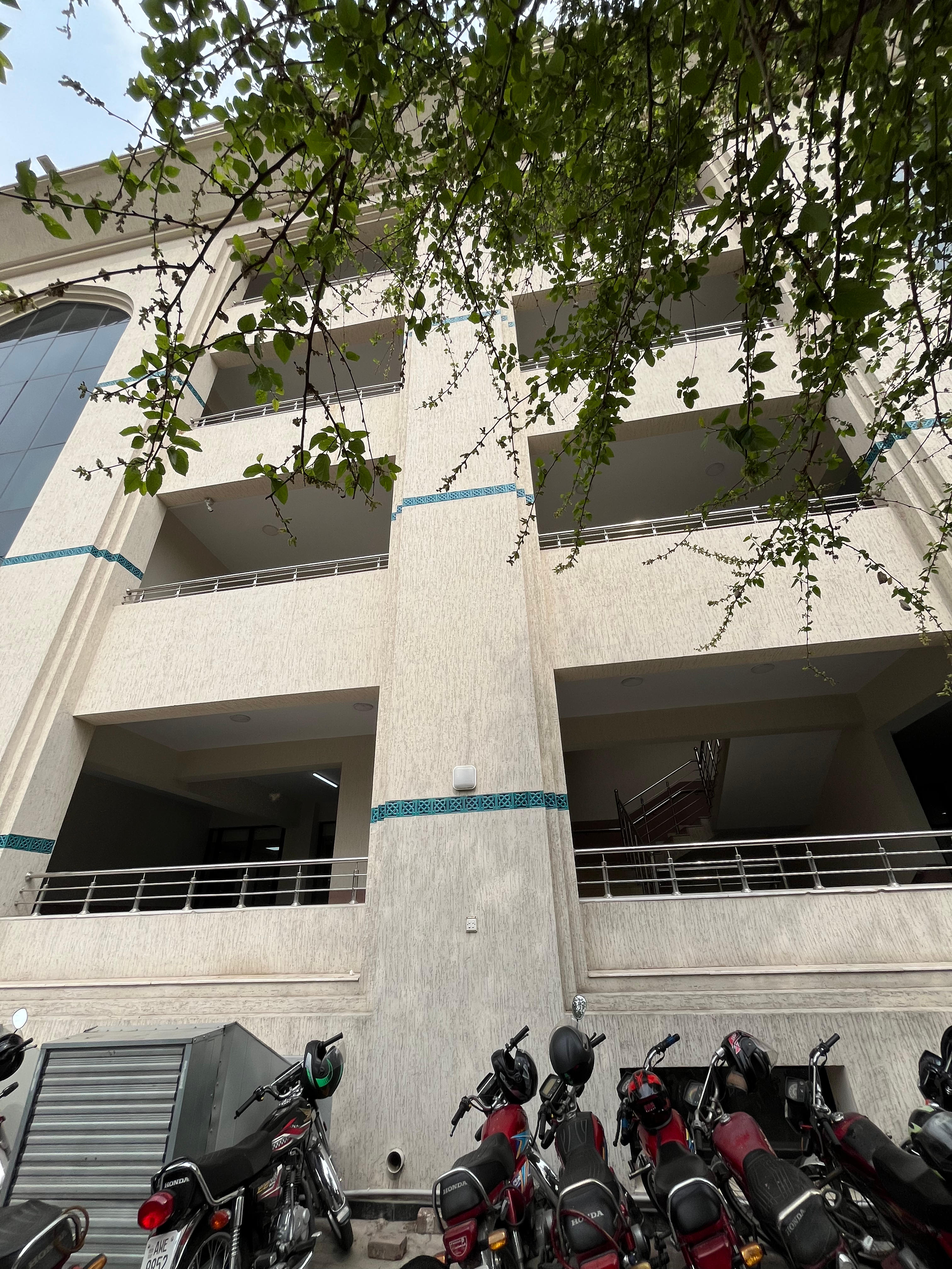Block F: (3, 56, 952, 1181)
